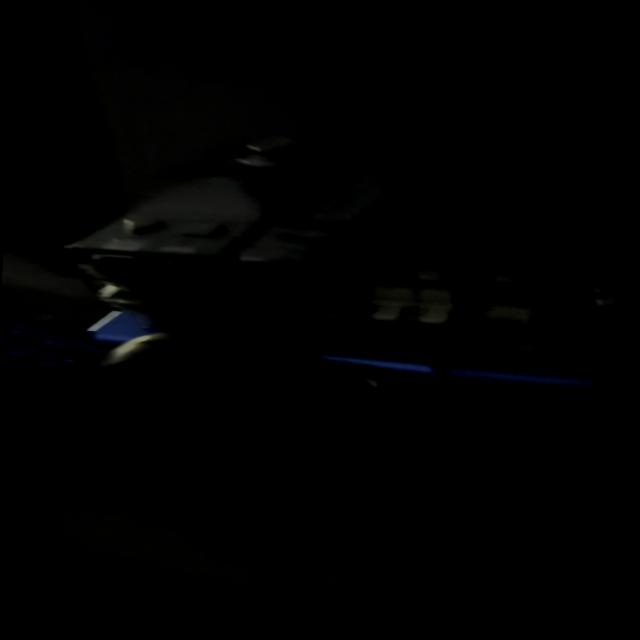mbot-detection: (0, 102, 640, 487)
